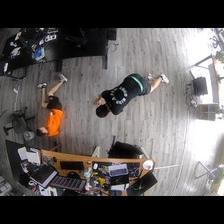fall: (91, 70, 171, 121), (32, 72, 70, 139)
